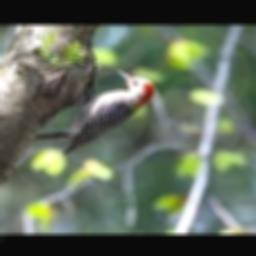Woodpecker: (32, 68, 153, 154)
